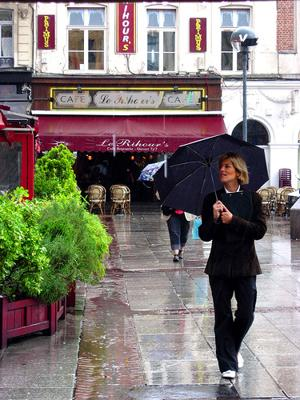person: (198, 152, 267, 380)
